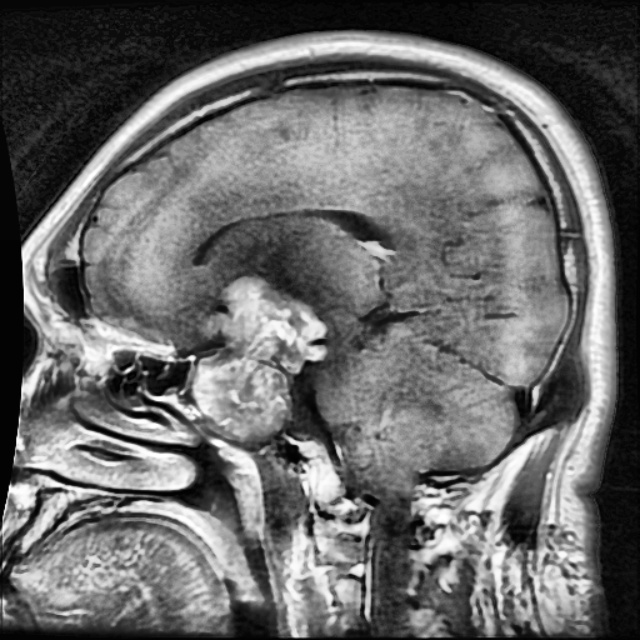Pituitary: (195, 278, 325, 434)
